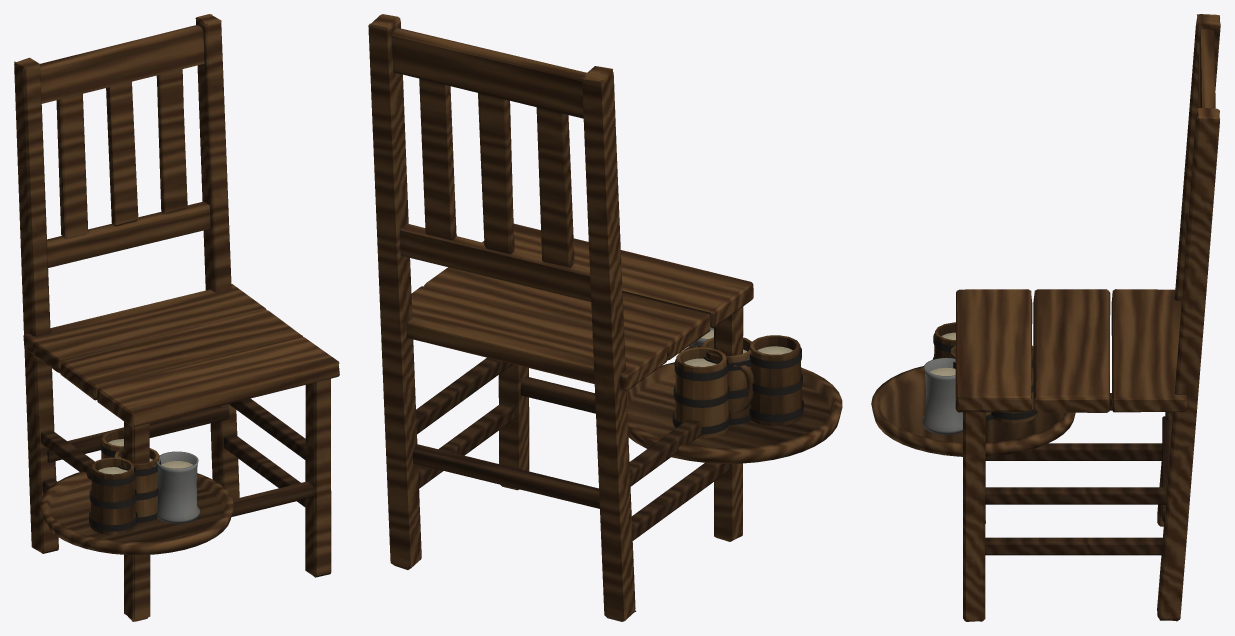
File: props.glb
3 views of the same model, side by side, from view 1: azimuth 30°, elevation 25°; view 2: azimuth 150°, elevation 25°; view 3: azimuth 270°, elevation 25° (orthographic). The views are drawn at different scales.
Parts seen in each view (by area): view 1: chair, tray, mug_wood; view 2: chair, tray, mug_wood; view 3: chair, tray.
Boxes of the visible parts, left/top/right/bottom form: chair: left=14, top=14, right=339, bottom=621; tray: left=40, top=429, right=233, bottom=555; mug_wood: left=114, top=448, right=160, bottom=522; chair: left=368, top=14, right=753, bottom=621; tray: left=626, top=327, right=842, bottom=463; mug_wood: left=683, top=337, right=754, bottom=424; chair: left=955, top=14, right=1220, bottom=621; tray: left=871, top=322, right=1075, bottom=456.
Size of the model in its own units: 0.6165 by 1 by 0.627.
Materials: 12 (12 with a texture image).
